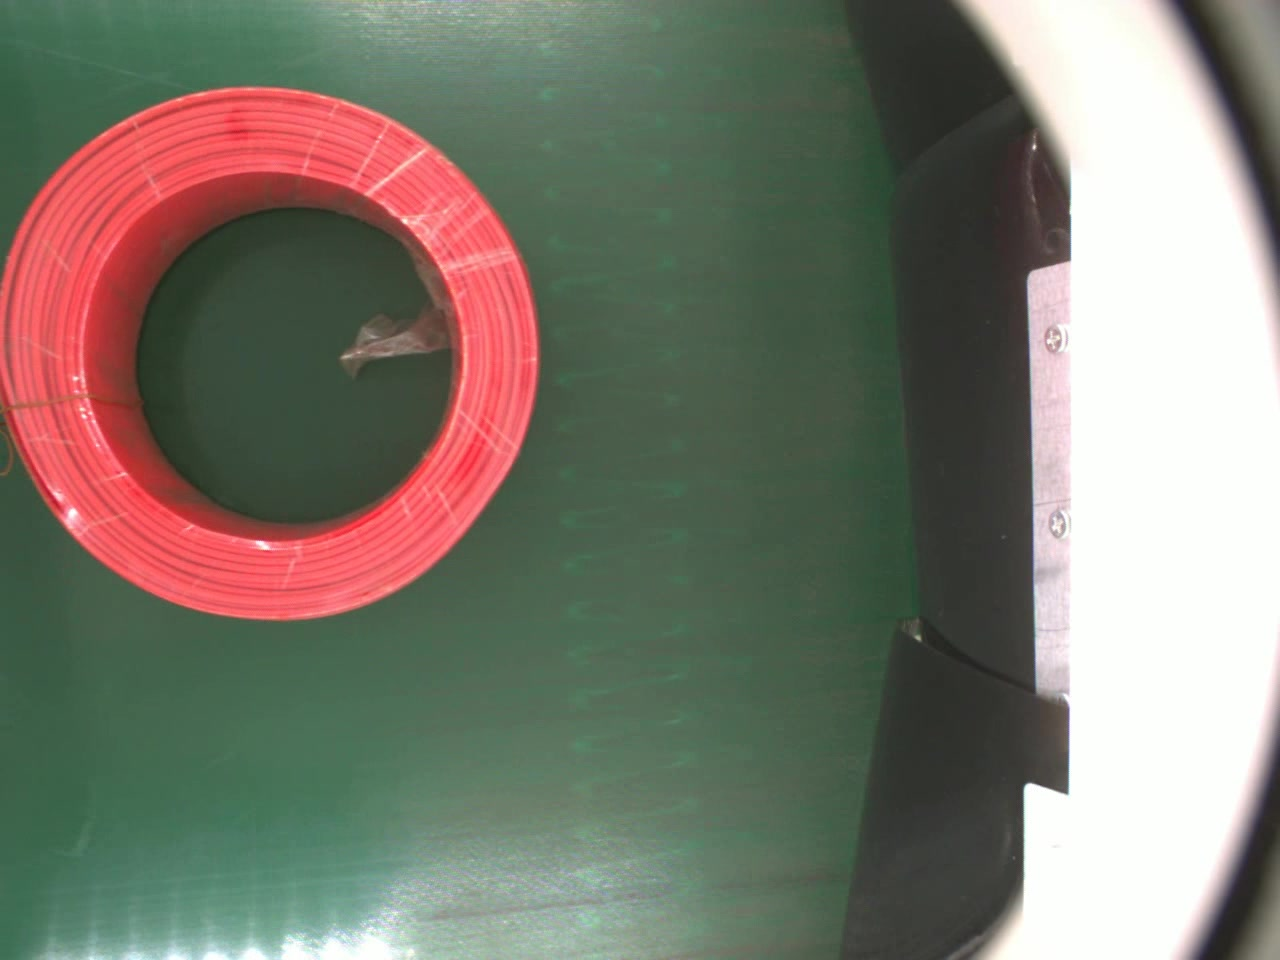red: (0, 86, 544, 625)
